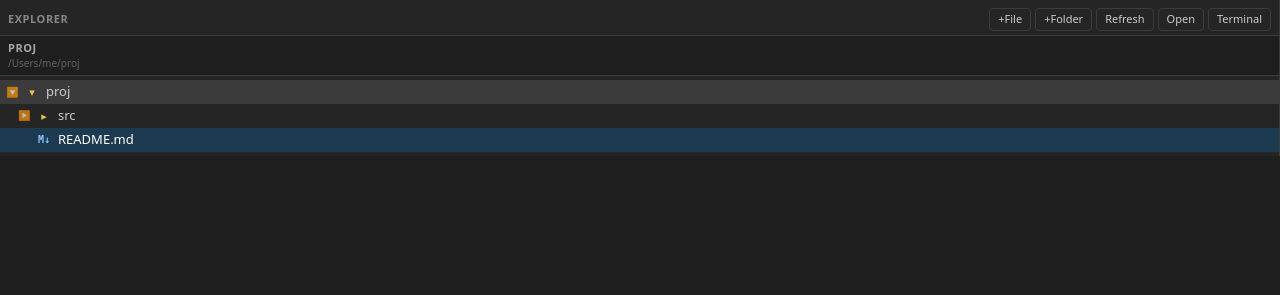
it: Sidebar create under selected folder + drag/drop › +File under the selected folder shows the folder on the label, filename in input
Click the element titled "proj/src" at [47, 115], box [18,106,76,124]
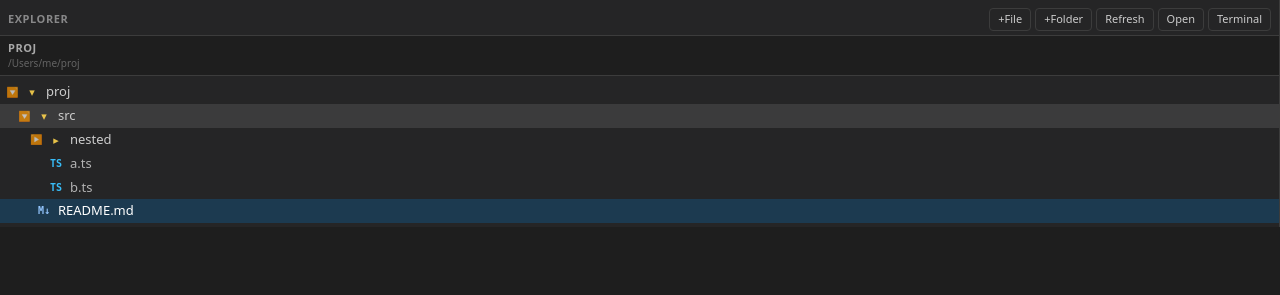
Click the button with test id "new-file" at [1010, 19], box [989,8,1031,30]
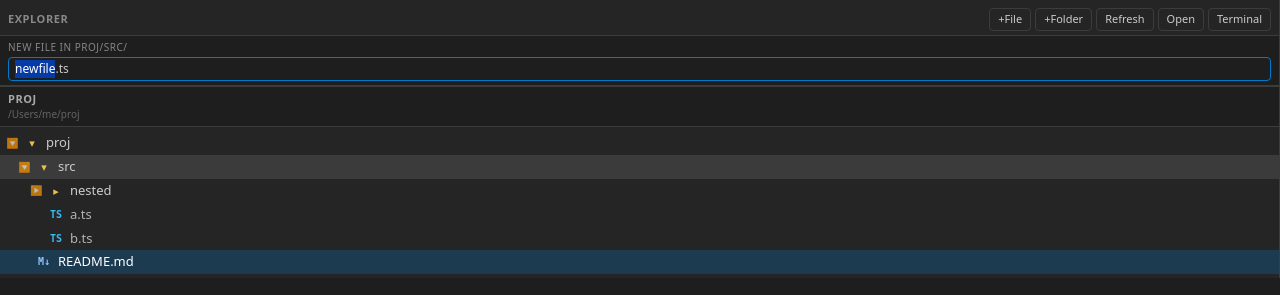
Now the field with test id "create-input" holds "newfile.ts", box [8,56,1271,80]
Now the text with test id "create-target" shows "proj/src/", box [8,40,128,54]
